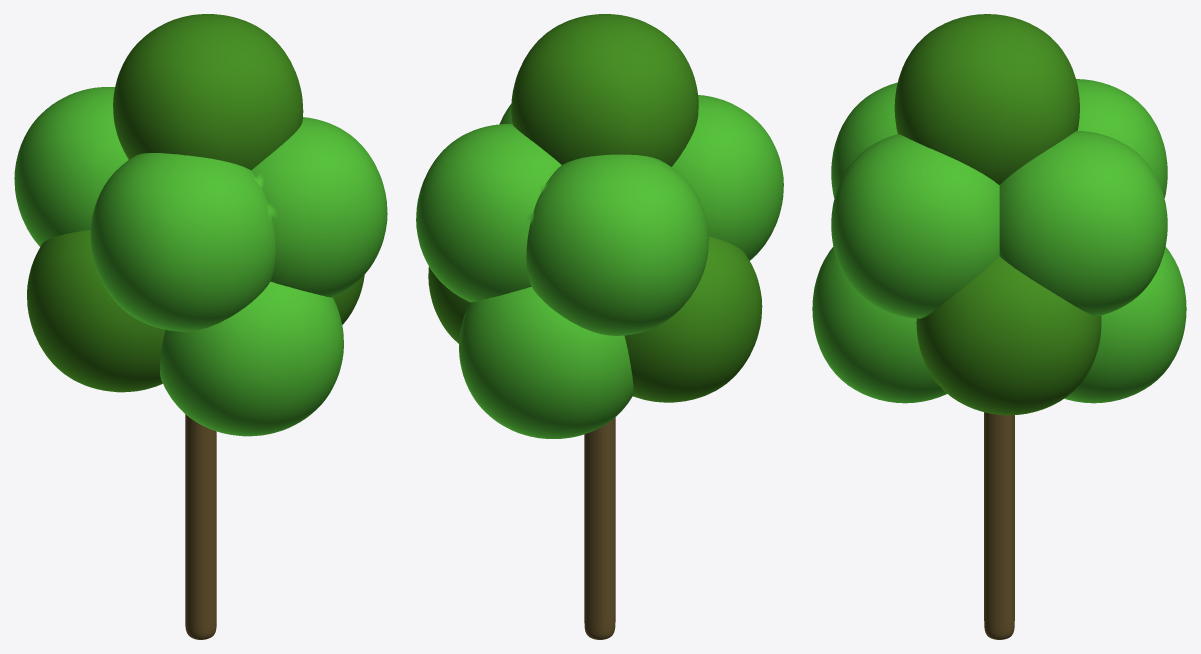
File: Arbol grande.fbx
3 views of the same model, side by side, from view 1: azimuth 30°, elevation 25°; view 2: azimuth 150°, elevation 25°; view 3: azimuth 270°, elevation 25° (orthographic).
Visible parts, largest first — view 1: Cube.147, Cube.145, Cube.146, Cube.144, Cube.148, Cube.143; view 2: Cube.147, Cube.145, Cube.146, Cube.144, Cube.148; view 3: Cube.147, Cube.145, Cube.146, Cube.144, Cube.148, Cube.143.
Boxes of the visible parts, <box> form: Cube.147: <box>14,87,387,331</box>; Cube.145: <box>113,14,303,170</box>; Cube.146: <box>160,281,343,436</box>; Cube.144: <box>27,230,364,392</box>; Cube.148: <box>185,414,216,639</box>; Cube.143: <box>187,416,216,464</box>; Cube.147: <box>416,95,783,335</box>; Cube.145: <box>511,14,698,166</box>; Cube.146: <box>459,286,633,438</box>; Cube.144: <box>428,236,762,402</box>; Cube.148: <box>584,419,615,639</box>; Cube.147: <box>831,79,1167,318</box>; Cube.145: <box>894,14,1079,184</box>; Cube.146: <box>812,247,1186,403</box>; Cube.144: <box>916,256,1101,415</box>; Cube.148: <box>984,415,1014,639</box>; Cube.143: <box>984,412,1002,465</box>.
Bounding box in the file's own units: 2553 × 4859 × 2685.
